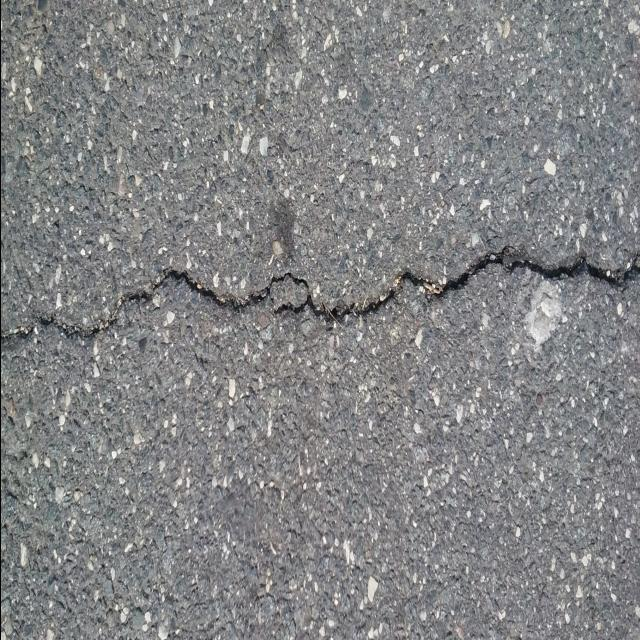Crack: (0, 247, 640, 345)
